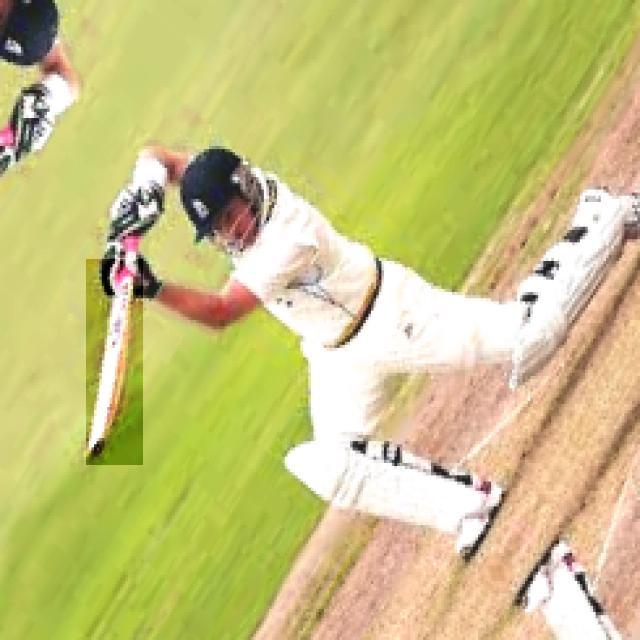bat: (86, 258, 142, 465)
toe: (84, 434, 110, 463)
